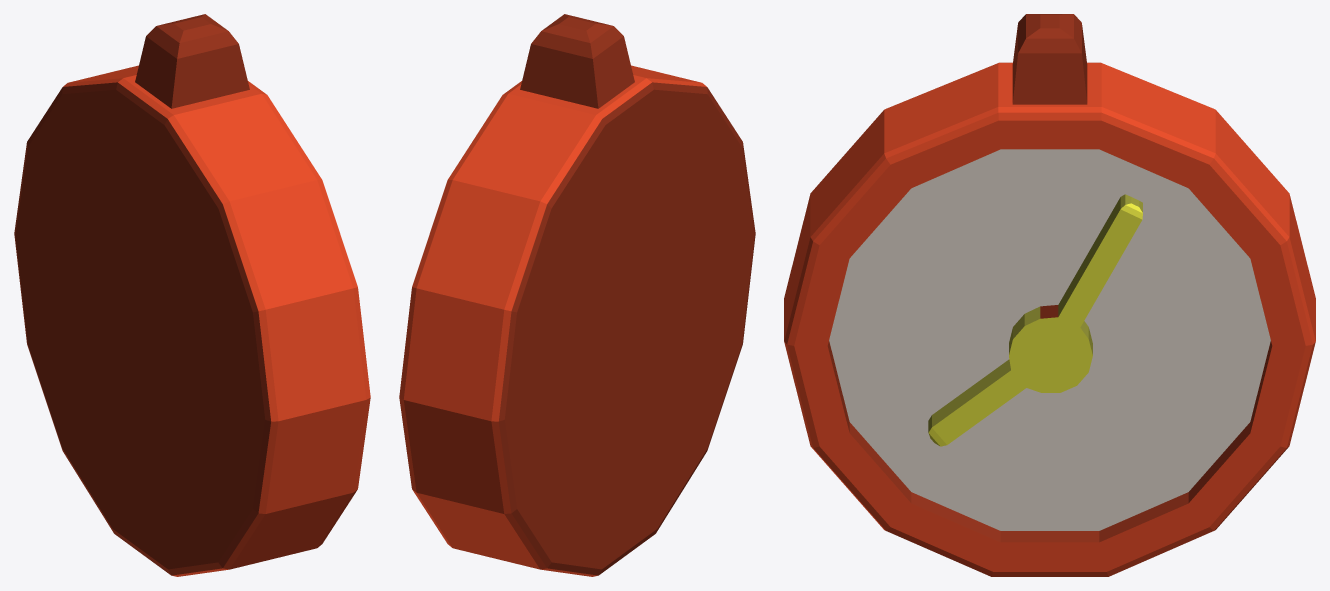
Rendered from time.fbx.
3 views of the same model, side by side, from view 1: azimuth 30°, elevation 25°; view 2: azimuth 150°, elevation 25°; view 3: azimuth 270°, elevation 25° (orthographic). The views are drawn at different scales.
Visible parts, largest first — view 1: Cylinder; view 2: Cylinder; view 3: Cylinder.
Part boxes in pixels (bbox=[...]): Cylinder: bbox=[14, 14, 370, 576]; Cylinder: bbox=[399, 14, 755, 576]; Cylinder: bbox=[784, 14, 1315, 576].
Size of the model in its own units: 47.25 by 221 by 200.
